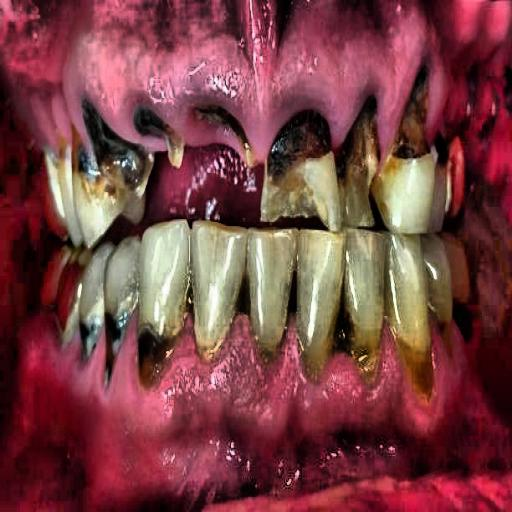Gingivitis: (63, 309, 462, 458), (54, 14, 461, 150)
